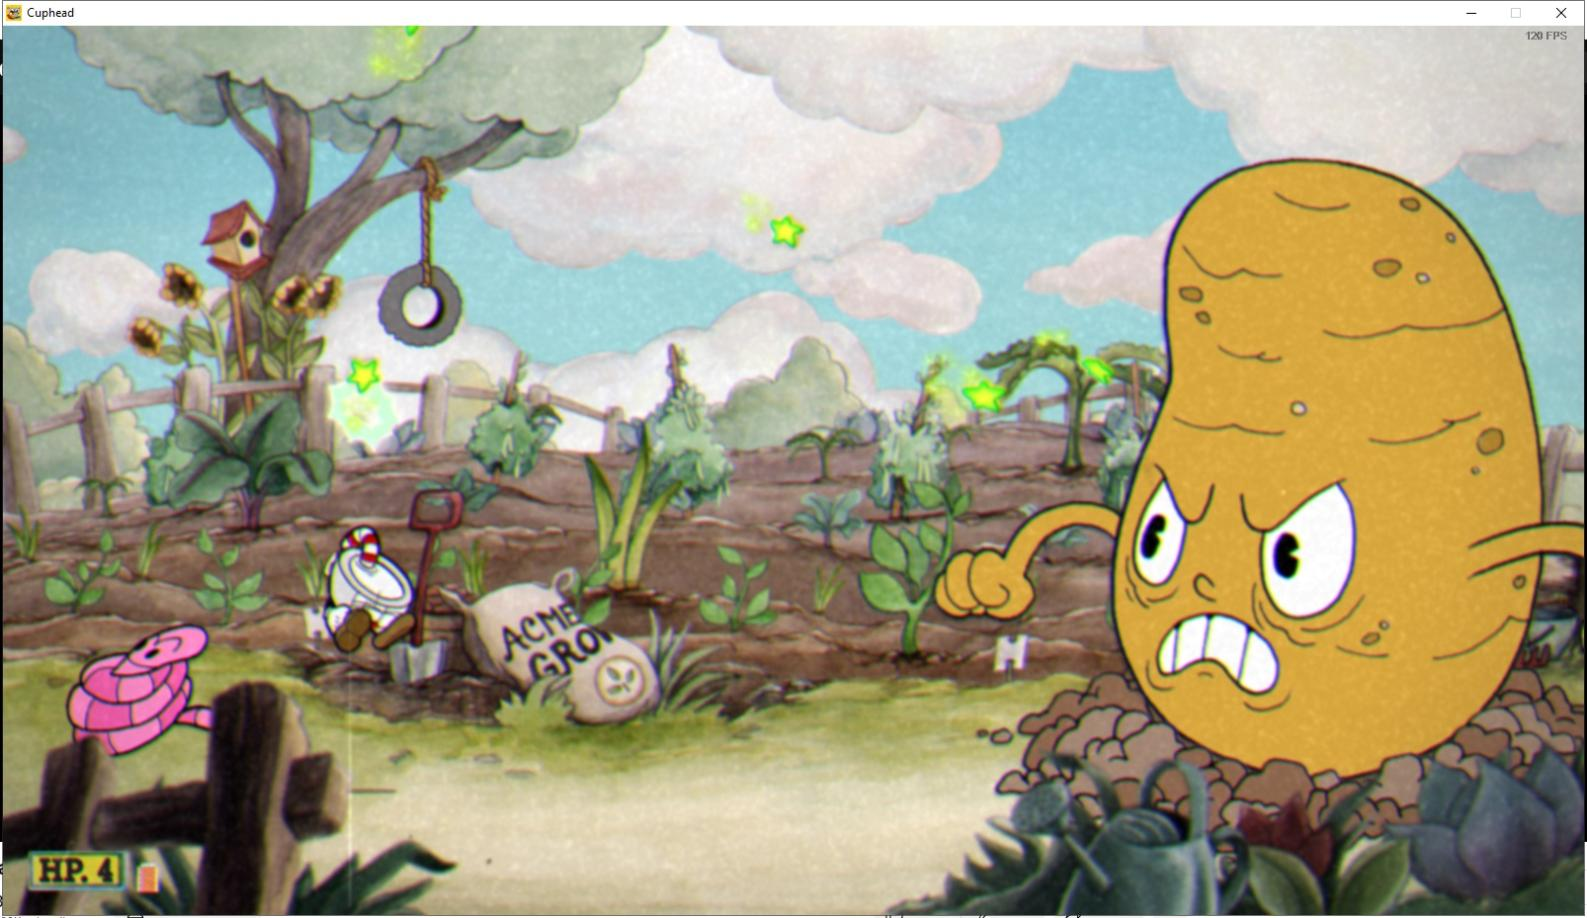hp4: (92, 852, 122, 888)
player: (314, 514, 428, 660)
potato_boss: (1090, 138, 1554, 792)
worm: (53, 608, 242, 762)
